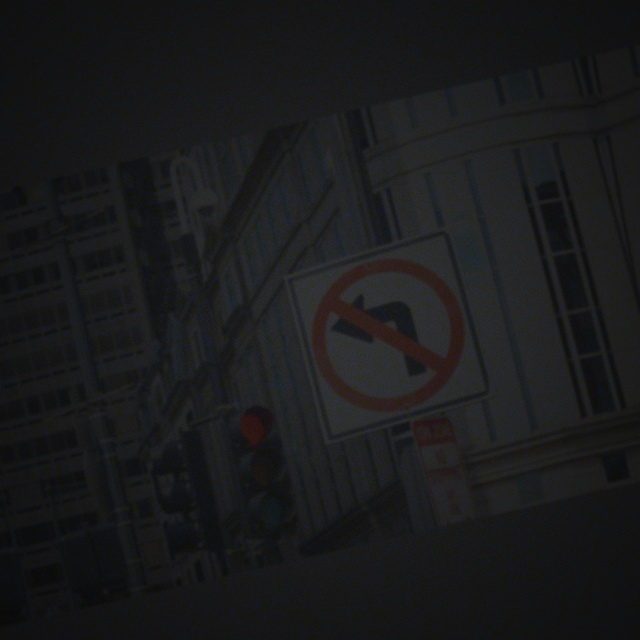Left_Turn_Prohibited: (285, 235, 497, 435)
